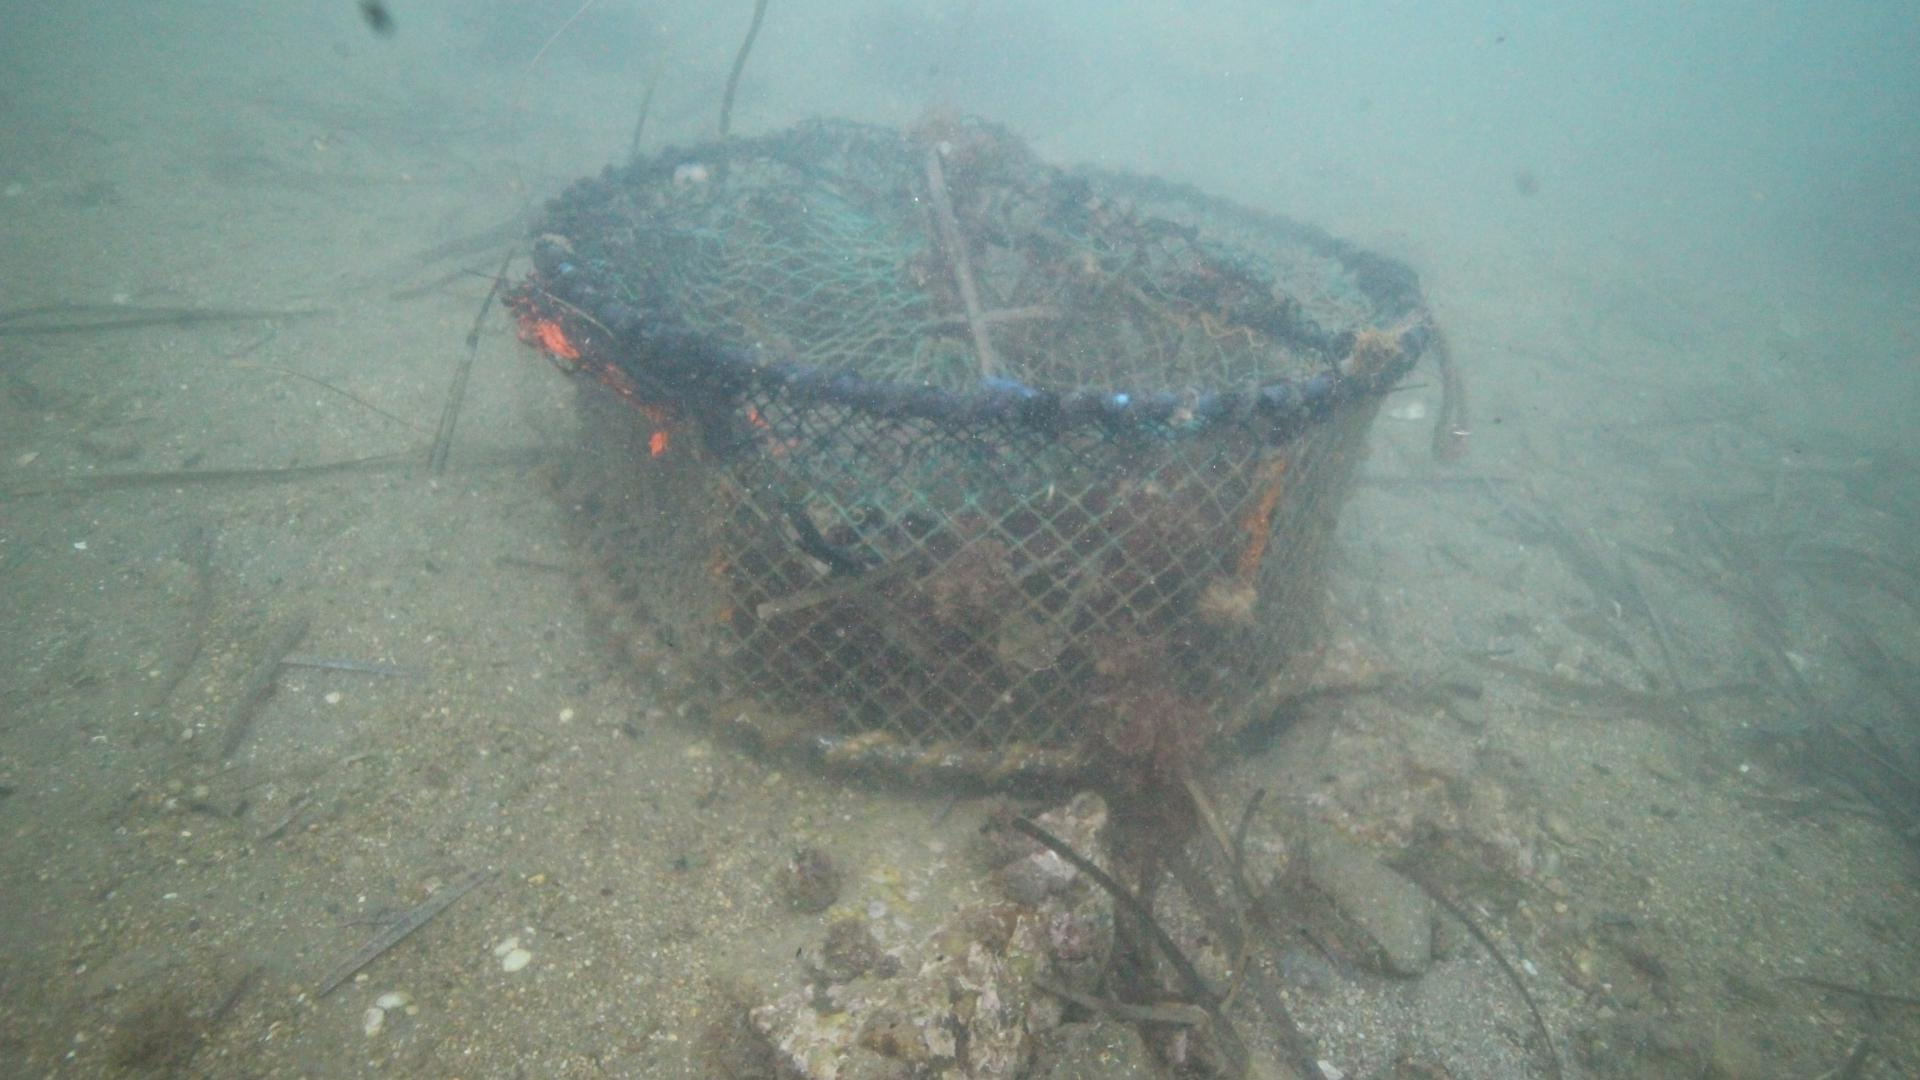circular fish trap: (525, 128, 1427, 785)
rope: (1420, 311, 1478, 465)
